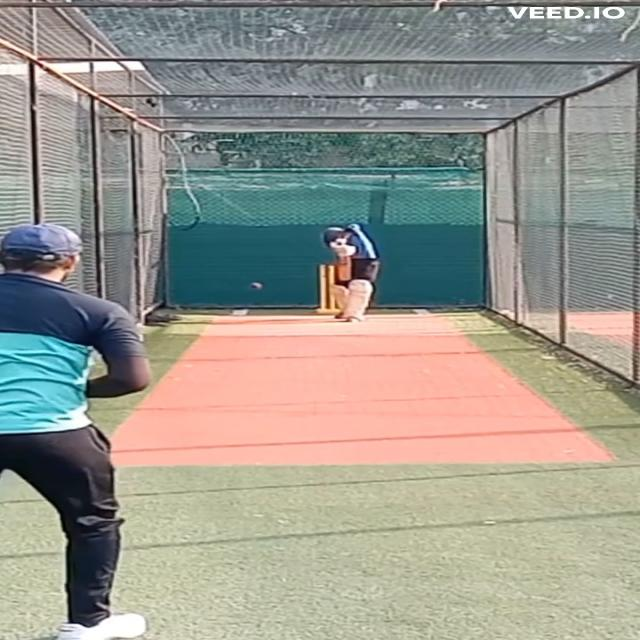ball: (249, 282, 263, 290)
stump: (314, 264, 338, 314)
